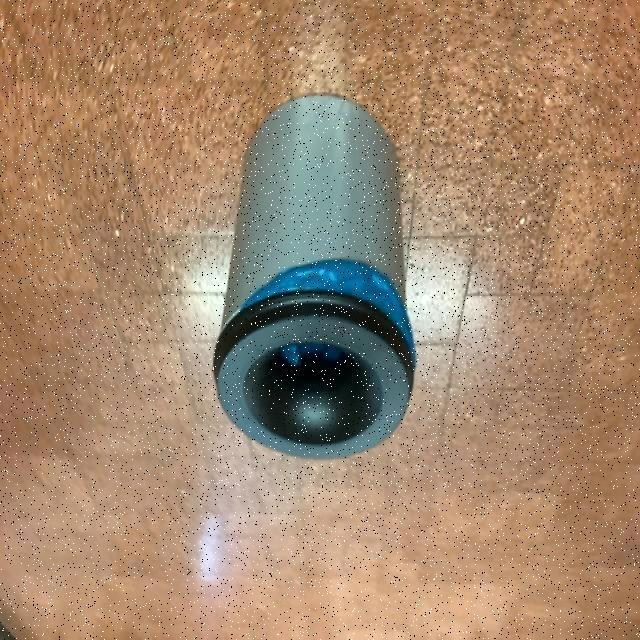garbage container: (180, 81, 456, 493)
